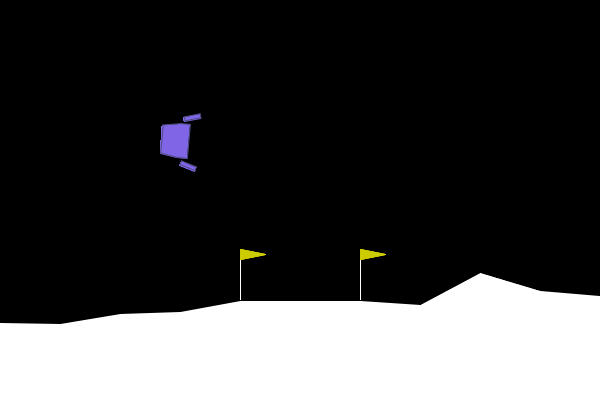lander: (157, 109, 202, 173)
